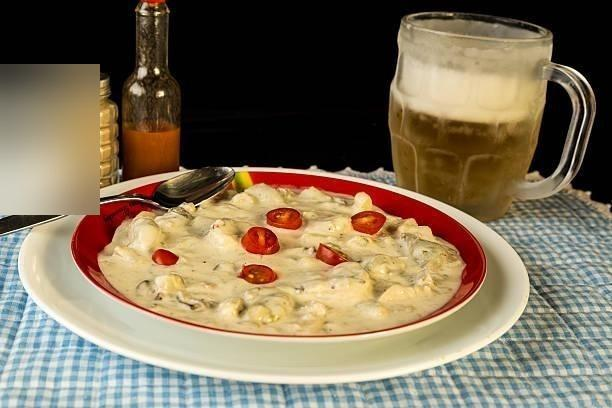bottle-glass: (120, 0, 183, 176)
glass-mug: (388, 8, 598, 221)
